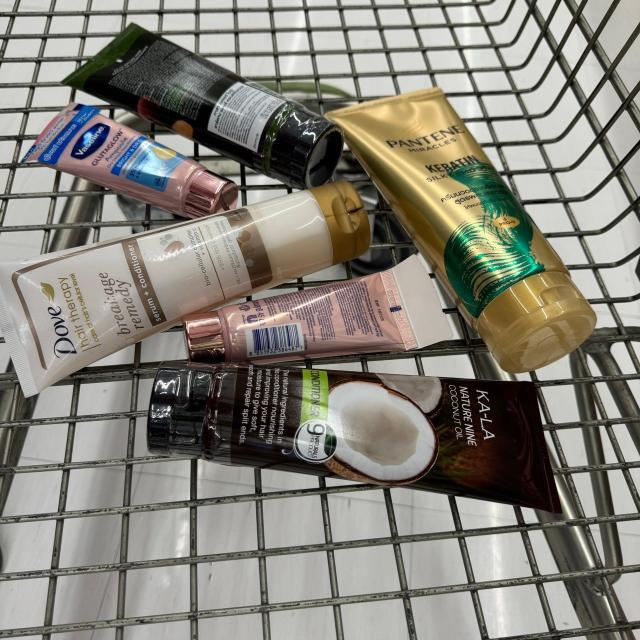Squeeze Tube: (3, 174, 373, 407), (326, 80, 614, 375), (140, 356, 549, 513), (51, 20, 340, 185), (175, 239, 468, 364), (21, 101, 241, 225)
